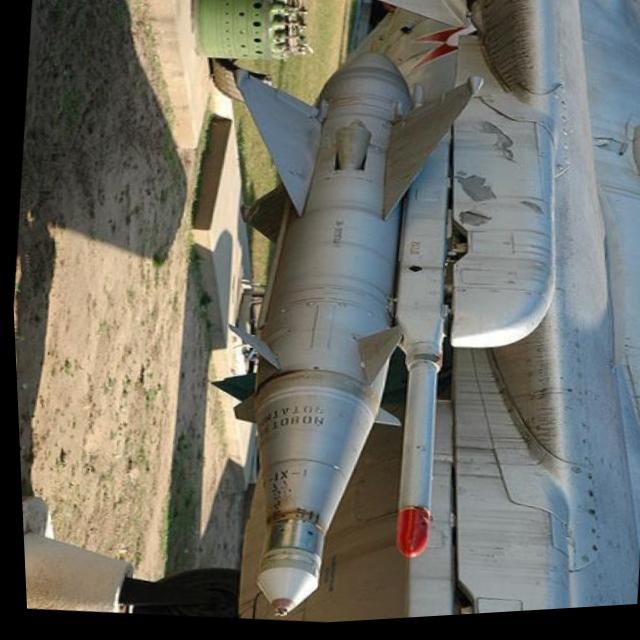missile: (203, 44, 460, 631)
